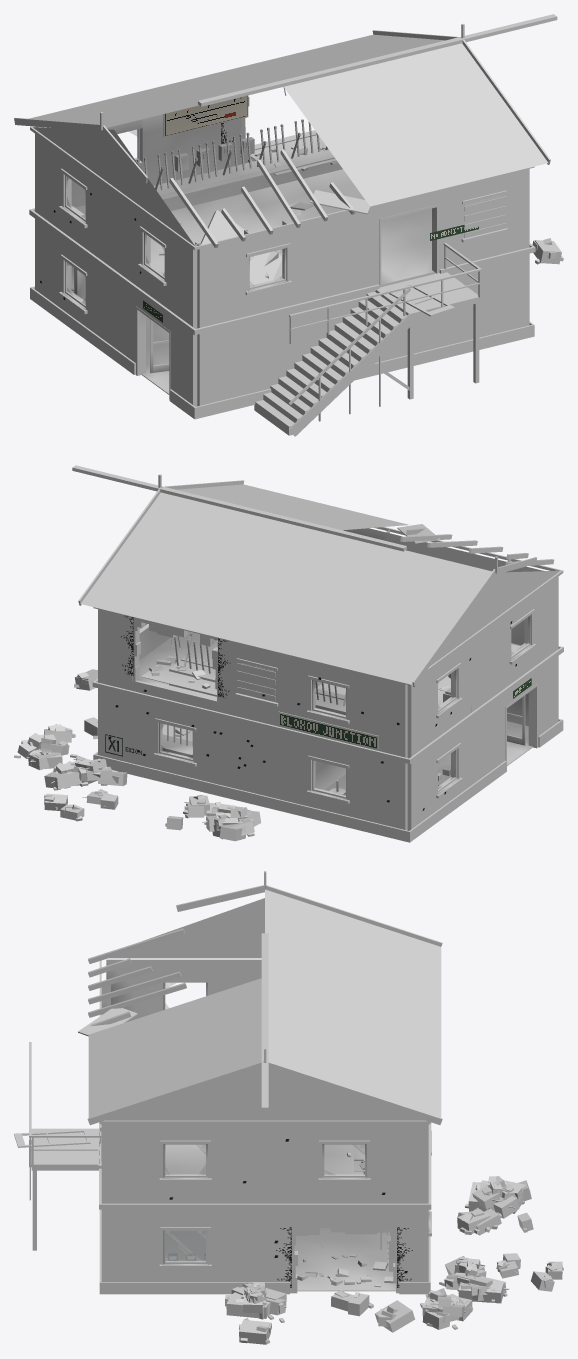
File: signal_box.glb
3 renders of one model, top to bottom at view 1: azimuth 30°, elevation 25°; view 2: azimuth 150°, elevation 25°; view 3: azimuth 270°, elevation 25°, orthographic. The views are drawn at different scales.
Visible parts, largest first — view 1: signal_box; view 2: signal_box; view 3: signal_box.
Boxes of the visible parts, bbox=[...] form: signal_box: bbox=[14, 14, 563, 436]; signal_box: bbox=[14, 465, 563, 842]; signal_box: bbox=[14, 871, 563, 1344].
Size of the model in its own units: 16.62 by 8.97 by 17.31.
Materials: 4 (3 with a texture image).
